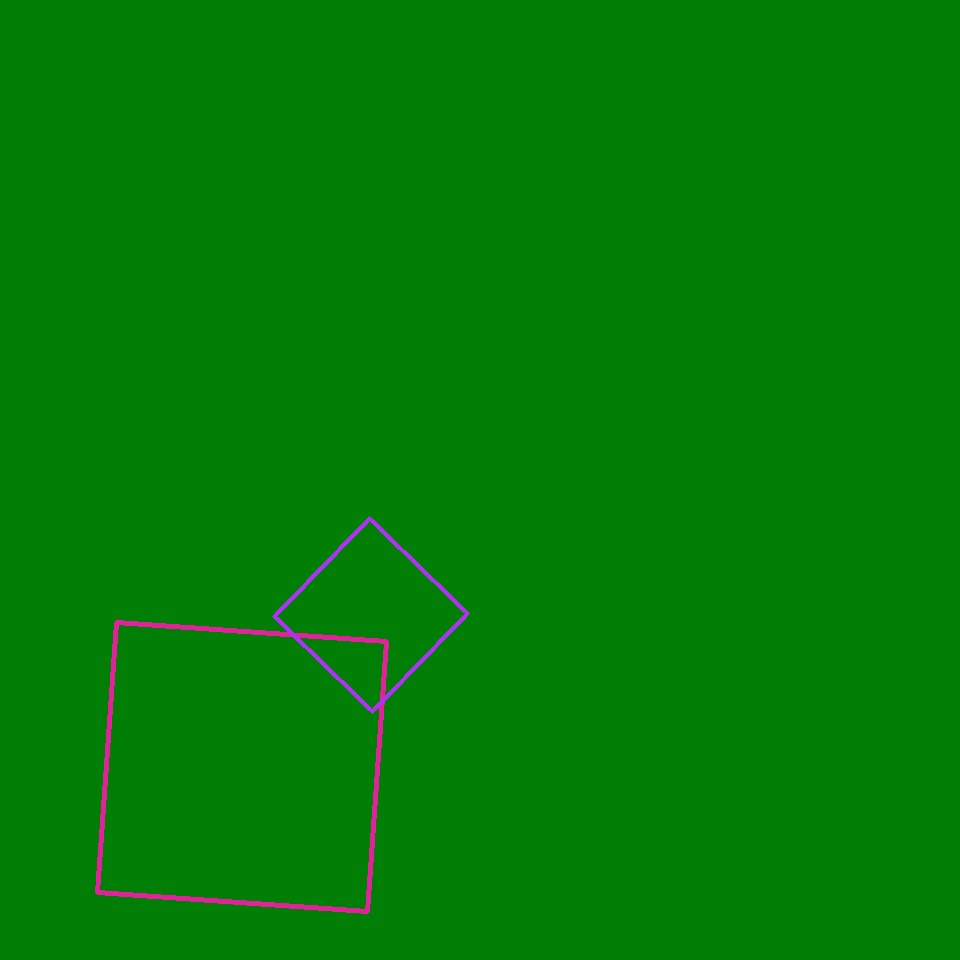square: (98, 622, 386, 912), (274, 518, 468, 712)
